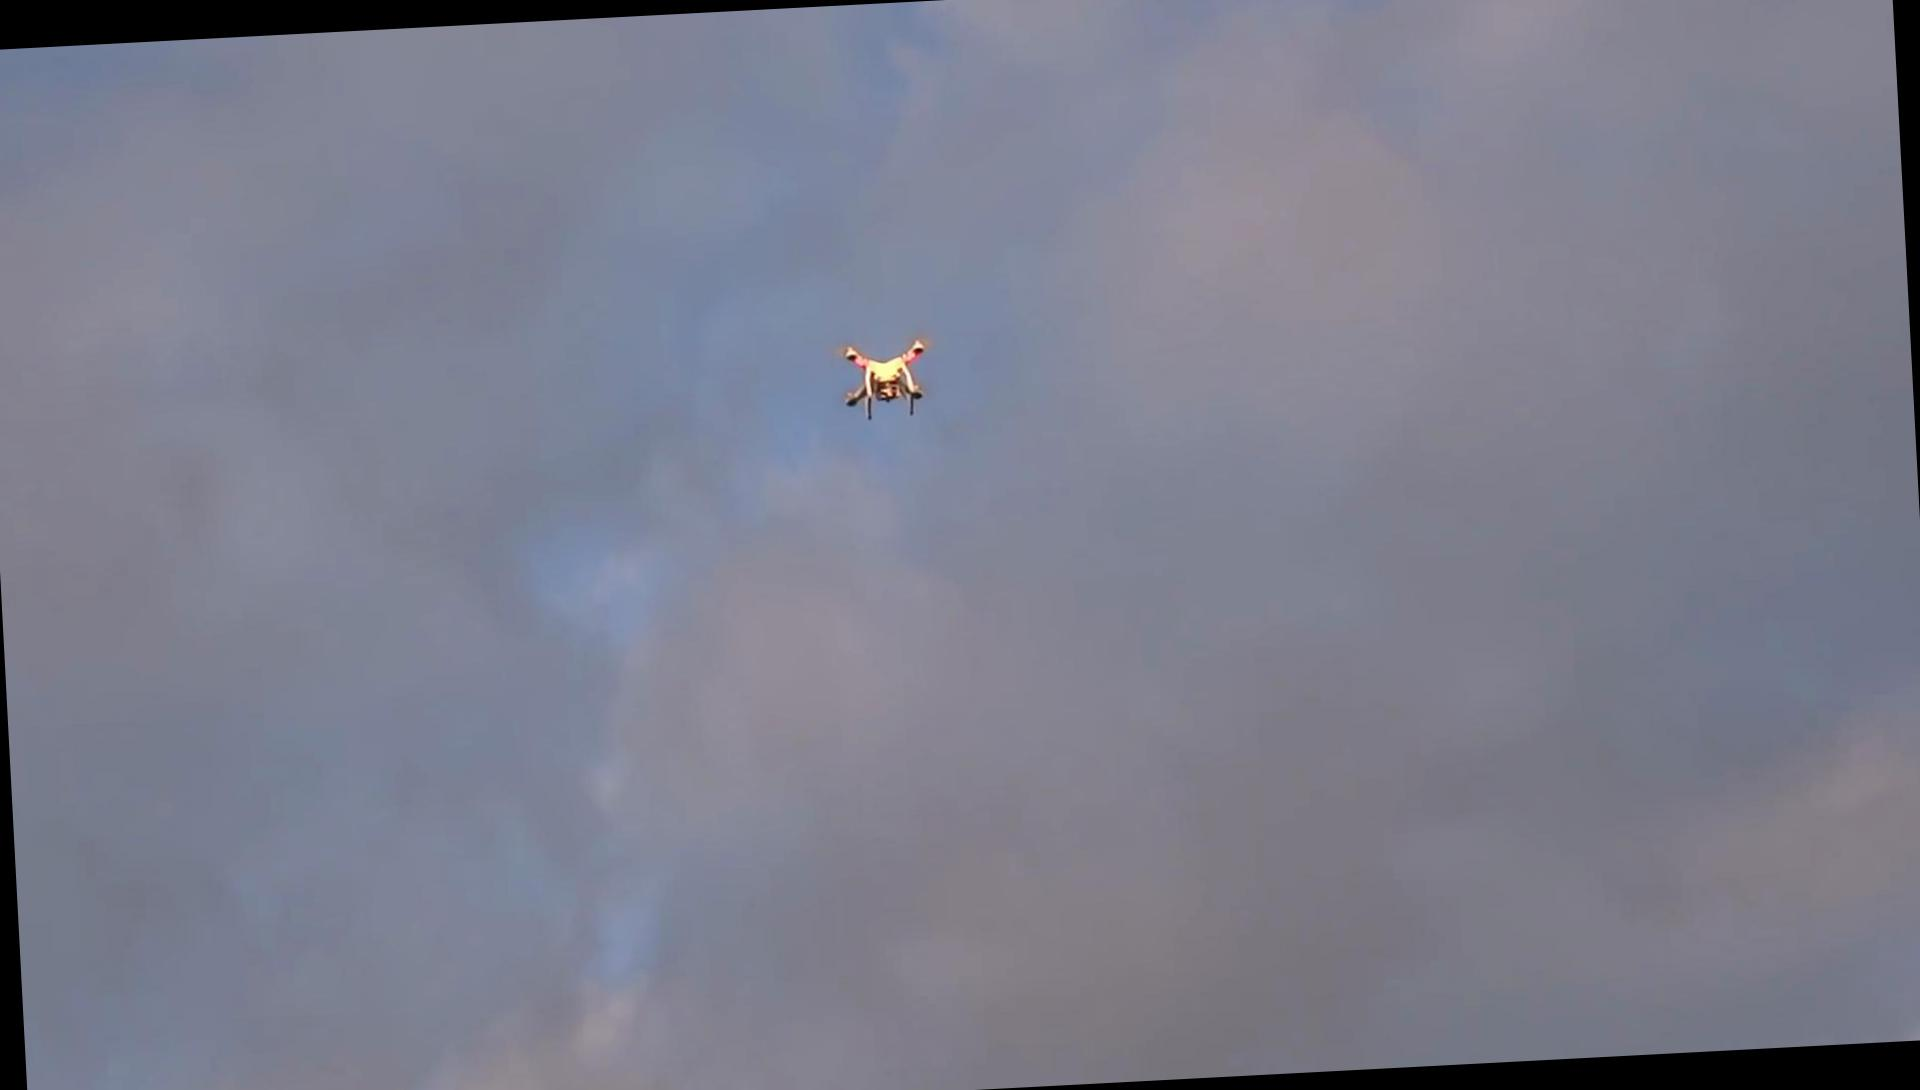drone: (835, 330, 935, 424)
